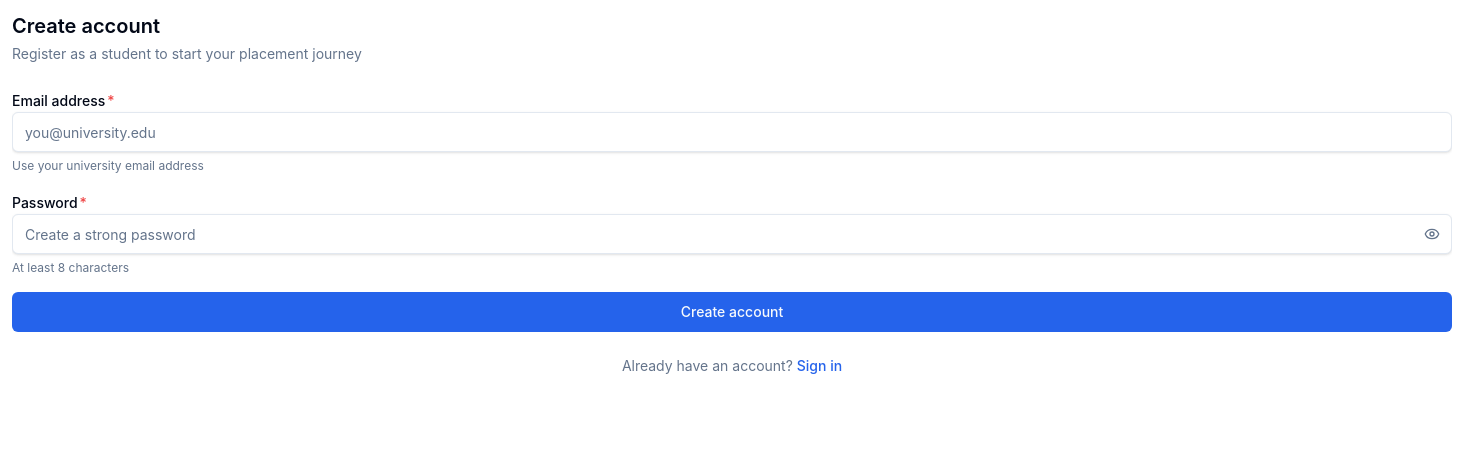
Scenario: RegisterPage › shows the API error and stays on the register page when registration fails
Type "taken@university.edu" into the field labelled "Email address*" at (732, 132), box [12,112,1452,152]
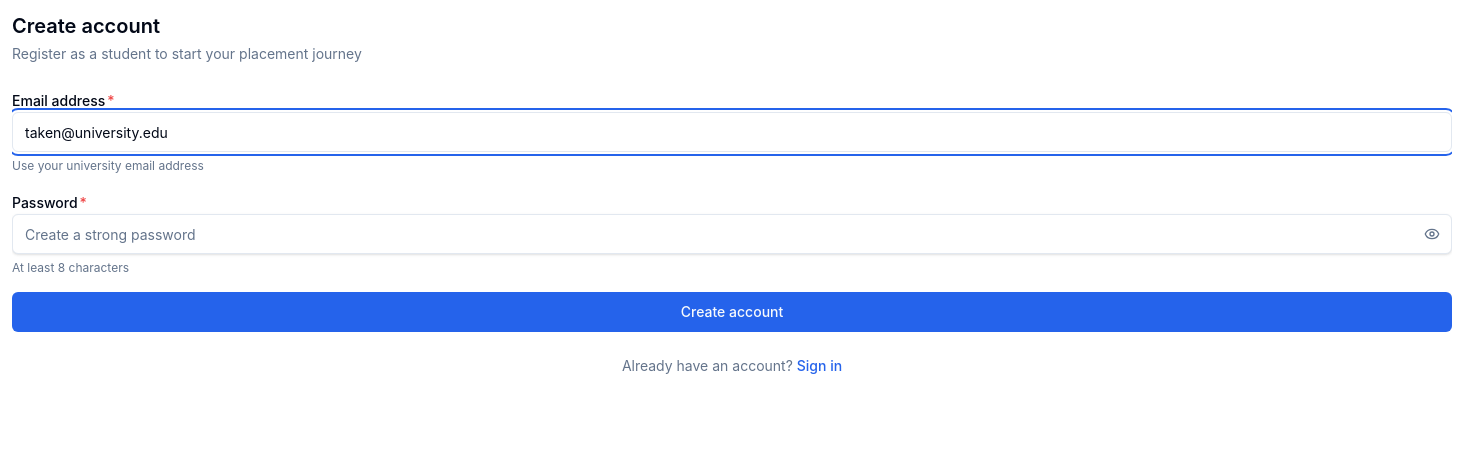
Type "secret123" into the password field labelled "Password*" at (732, 234), box [12,214,1452,254]
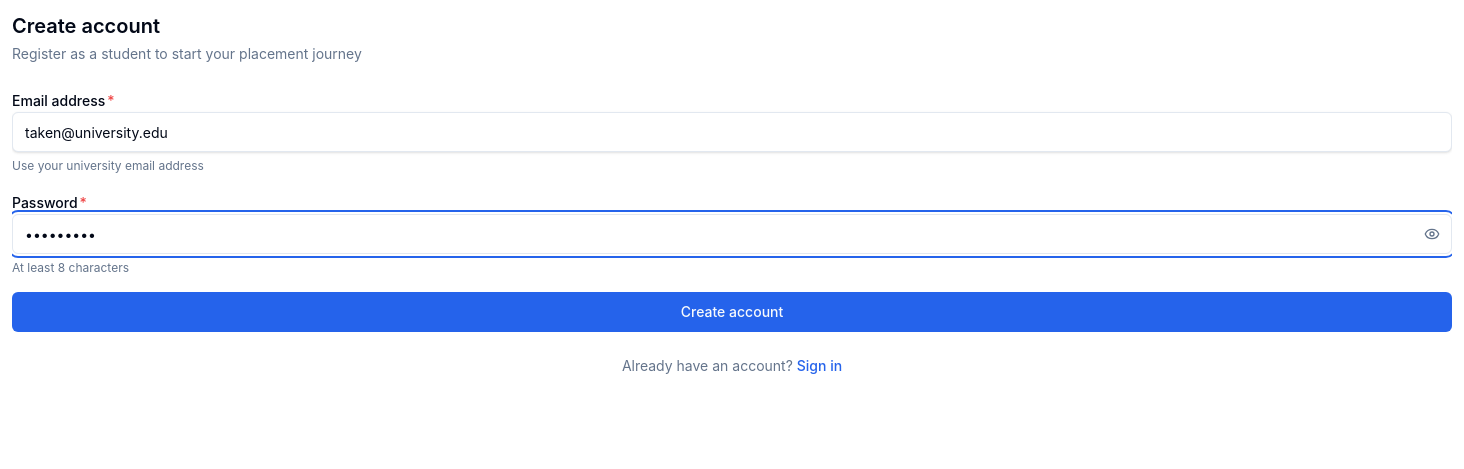
Click the button "Create account" at (732, 312), box [12,292,1452,332]
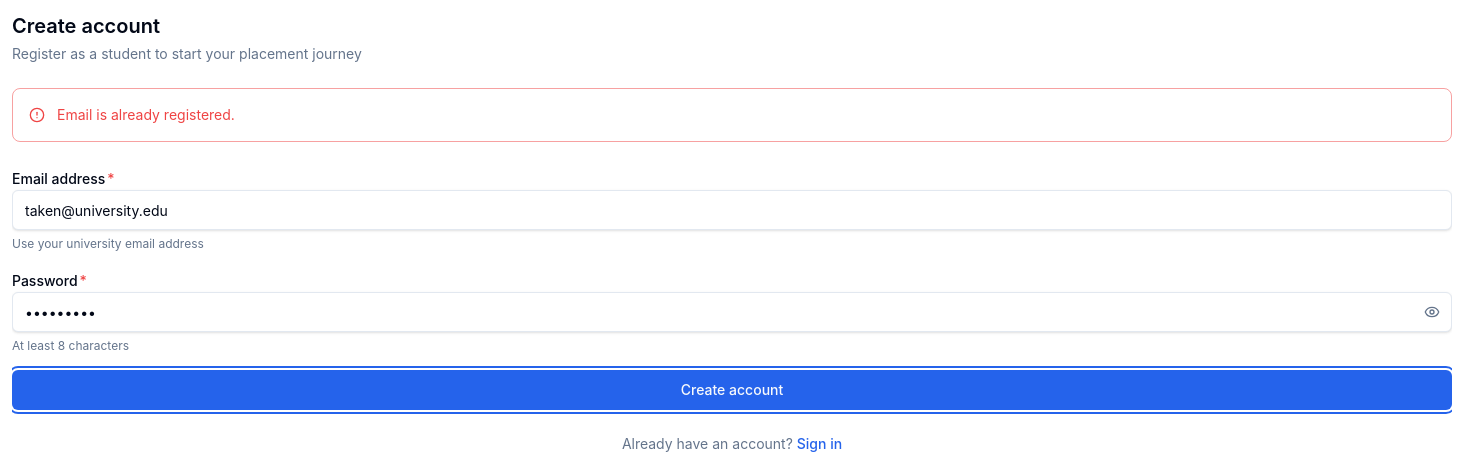
Expected: the heading "Create account" is shown, [12,14,160,38]
Expected: the text "Email is already registered." is shown, [29,105,235,125]
